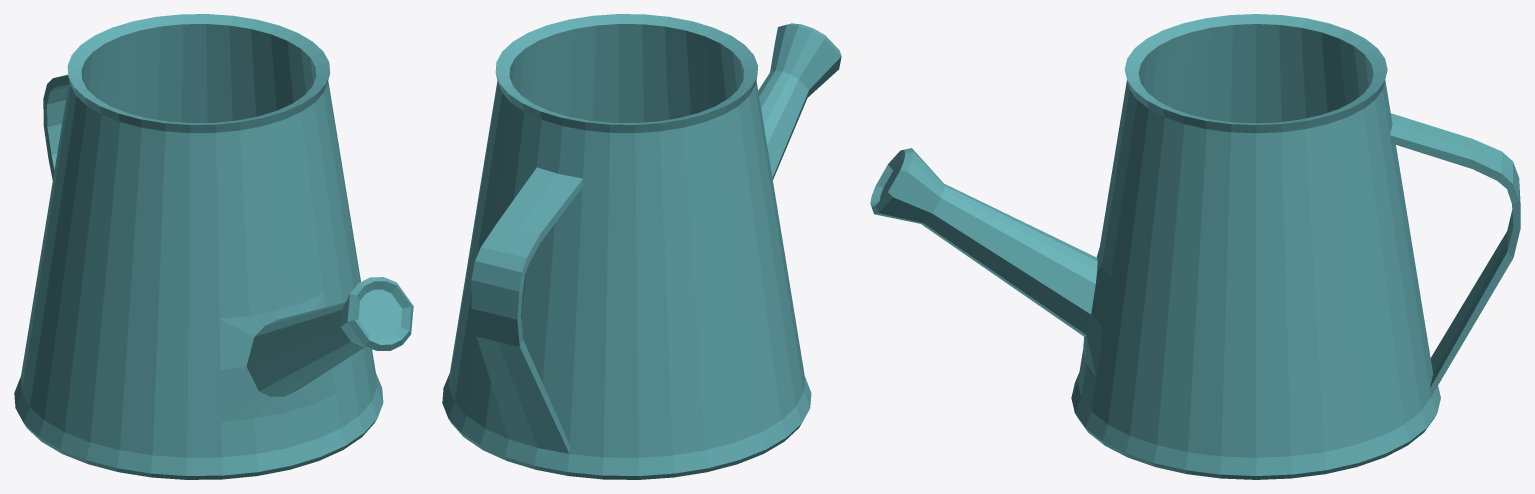
Rendered from watering_can.glb.
3 views of the same model, side by side, from view 1: azimuth 30°, elevation 25°; view 2: azimuth 150°, elevation 25°; view 3: azimuth 270°, elevation 25° (orthographic).
Visible parts, largest first — view 1: Watering Can.001; view 2: Watering Can.001; view 3: Watering Can.001.
Part boxes in pixels (x1=…): Watering Can.001: x1=14, y1=14, x2=413, y2=479; Watering Can.001: x1=442, y1=14, x2=841, y2=479; Watering Can.001: x1=870, y1=14, x2=1520, y2=479.
Bounding box in the file's own units: 0.6247 × 0.622 × 1.1.
